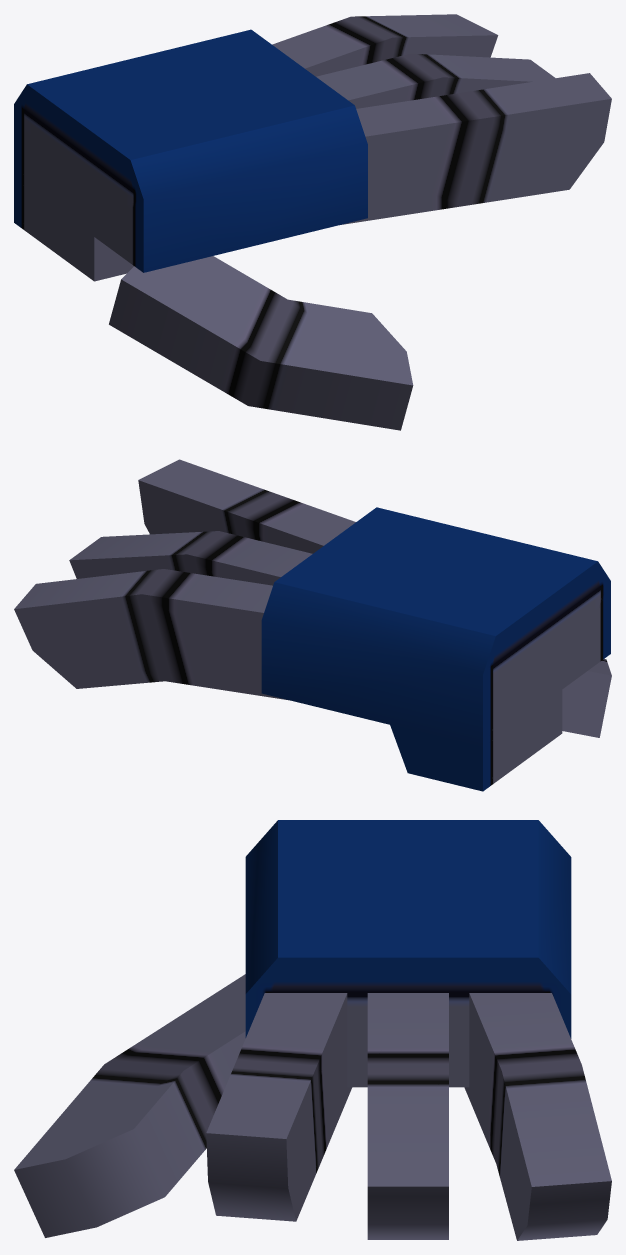
The picture shows the model from 3 angles, top to bottom: view 1: azimuth 30°, elevation 25°; view 2: azimuth 150°, elevation 25°; view 3: azimuth 270°, elevation 25°; orthographic projection. The views are drawn at different scales.
Parts seen in each view (by area): view 1: Joint_0_Object_0; view 2: Joint_0_Object_0; view 3: Joint_0_Object_0.
Boxes of the visible parts, x1=… form: Joint_0_Object_0: x1=14, y1=14, x2=611, y2=430; Joint_0_Object_0: x1=14, y1=459, x2=611, y2=791; Joint_0_Object_0: x1=14, y1=820, x2=611, y2=1240.
Size of the model in its own units: 63.59 by 31.12 by 54.54.
Materials: 1 (1 with a texture image).
